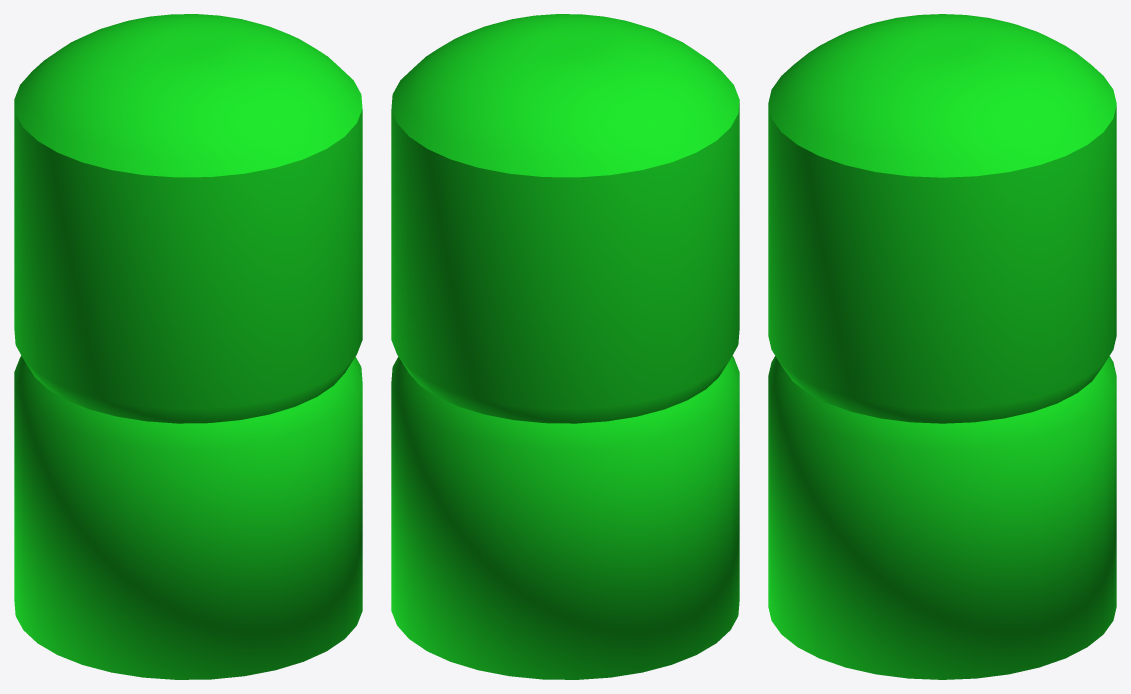
The picture shows the model from 3 angles, left to right: view 1: azimuth 30°, elevation 25°; view 2: azimuth 150°, elevation 25°; view 3: azimuth 270°, elevation 25°; orthographic projection.
Parts seen in each view (by area): view 1: Circle; view 2: Circle; view 3: Circle.
Part boxes in pixels (box(x1,y1,x2,y2)): Circle: box(14, 14, 362, 679); Circle: box(391, 14, 739, 679); Circle: box(768, 14, 1116, 679).
Size of the model in its own units: 200 by 355 by 200.
